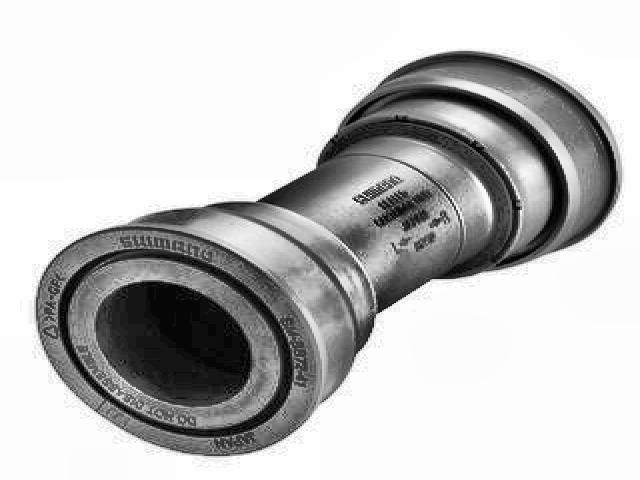bottom_bracket: (27, 48, 627, 458)
